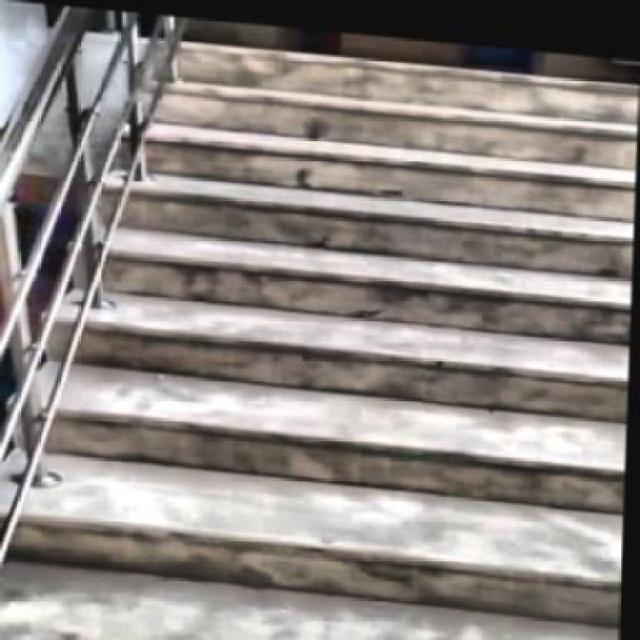stair: (12, 24, 638, 638)
